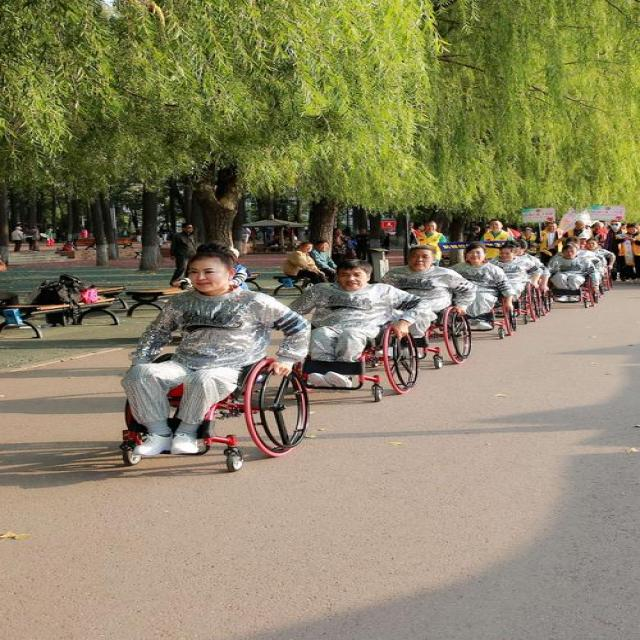wheelchairs: (112, 328, 316, 476), (288, 298, 430, 408), (380, 278, 479, 378)
